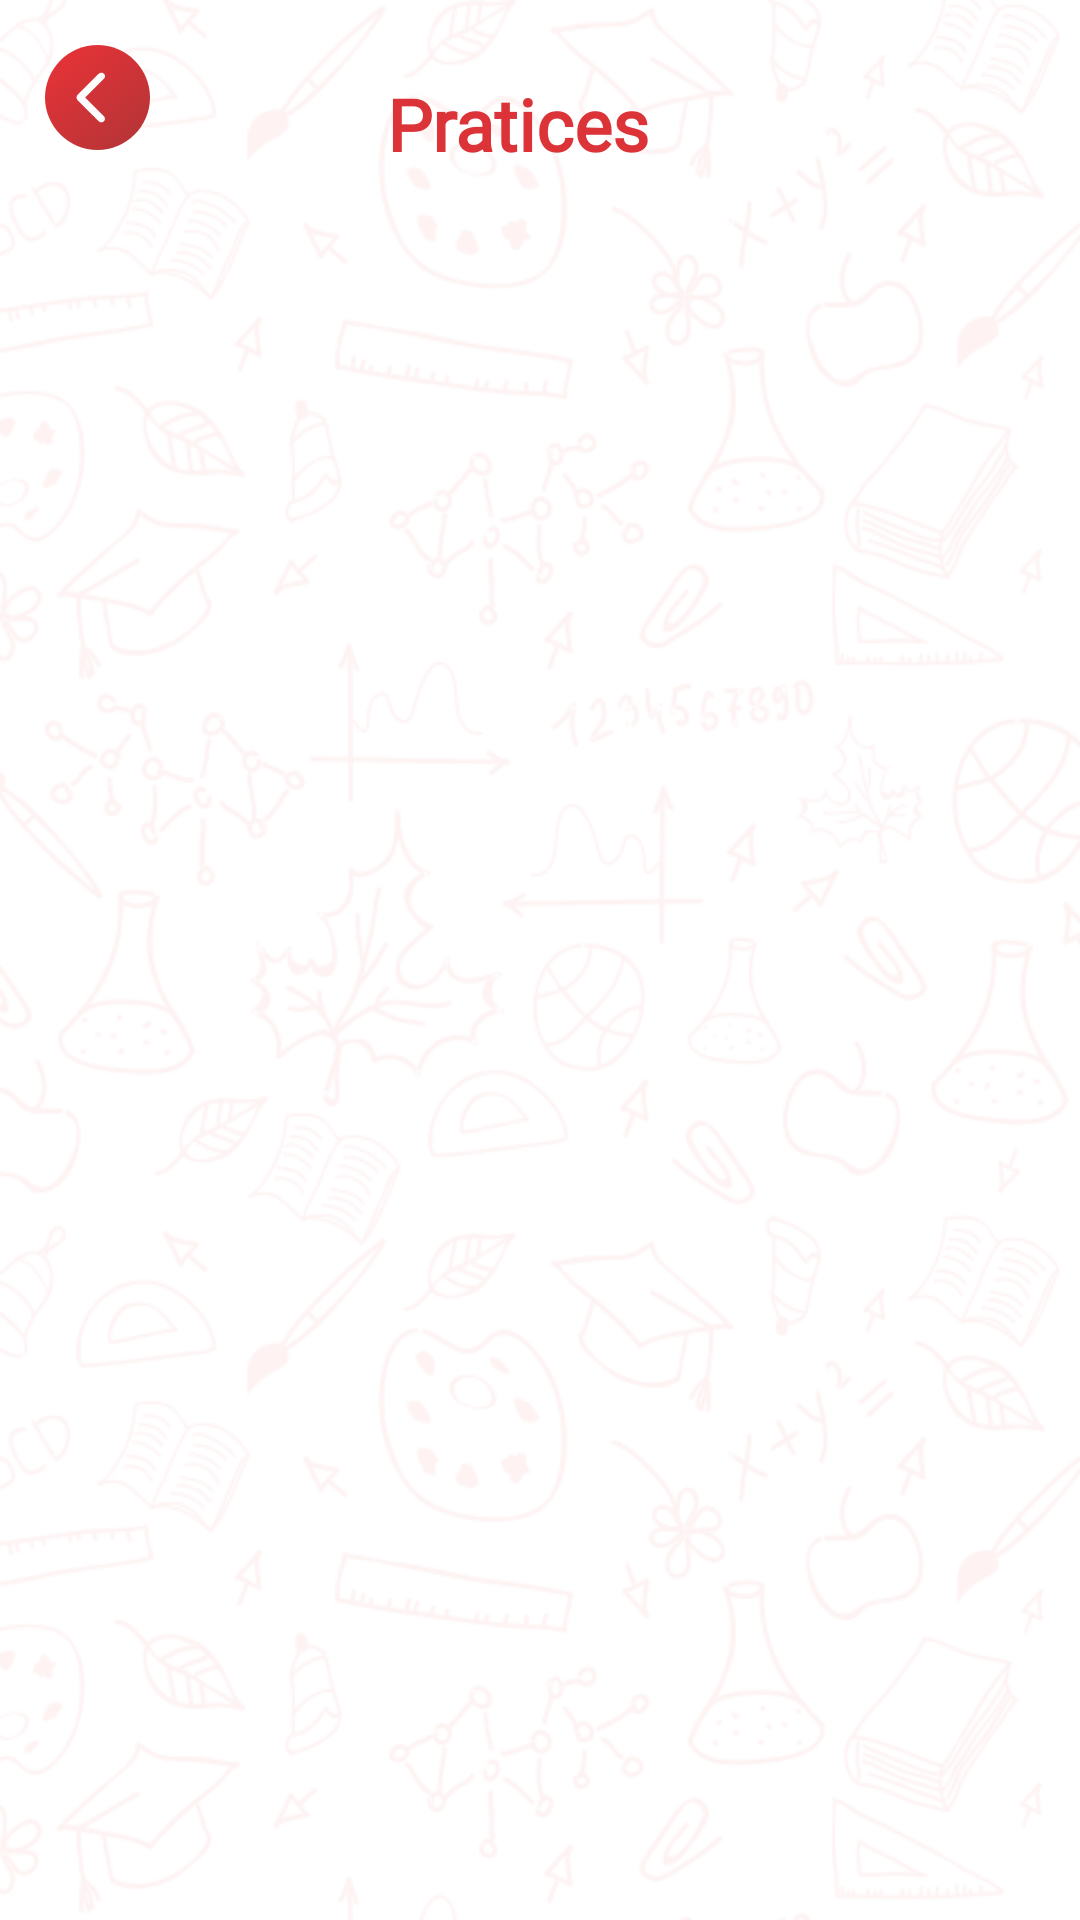

Point at icon controls on the screen. Image size 1080px×1920px, points as point (x, y).
backarrow: point (97, 97)
